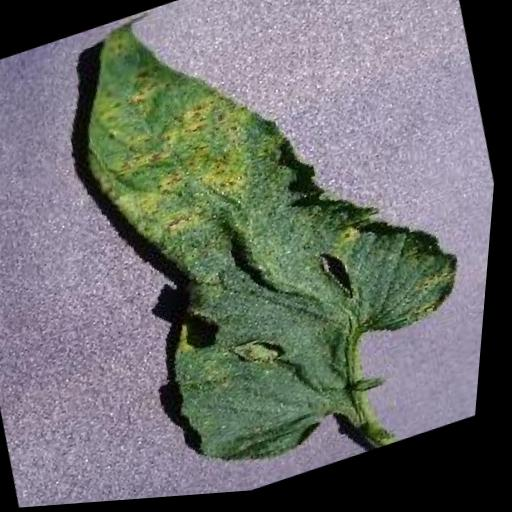Septoria: (32, 0, 512, 508)
